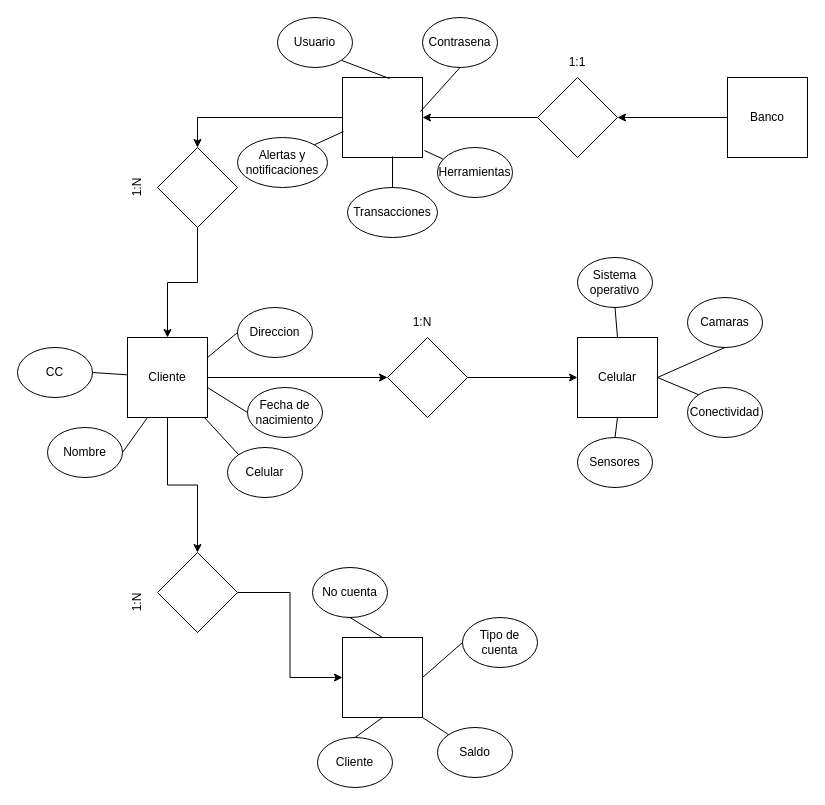
Some shapes in this 825 by 805 pixel diagram are drawn without their labels. Here are the shapes that lost their labels. From the top down, the centre of each, then its label:
At point (382, 117): "App".
At point (577, 117): "Suministra".
At point (197, 187): "Gestiona".
At point (427, 377): "Opera".
At point (197, 592): "Administra".
At point (382, 677): "Cuenta".
